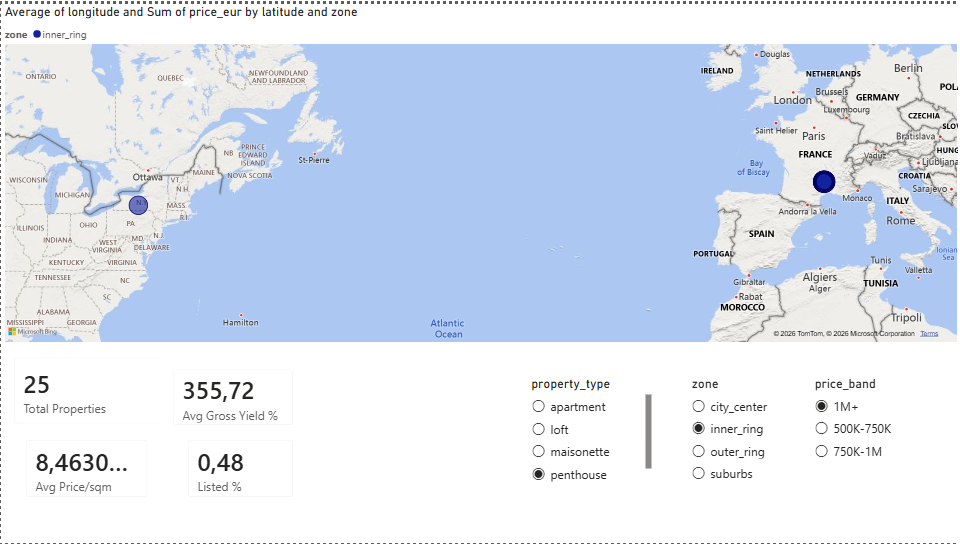

The dashboard page shown, as its layout file describes it:
{"tool":"powerbi","page":{"name":"Page 1","canvas":[1280,720],"ordinal":0},"visuals":[{"type":"map","fields":{"Series":["PropertyFacts.zone"],"Category":["PropertyFacts.latitude"],"X":["Avg(PropertyFacts.longitude)"],"Size":["Sum(PropertyFacts.price_eur)"]},"box":[0,0,1280,456],"z":0},{"type":"cardVisual","fields":{"Data":["_Measures.Total Properties"]},"box":[0,454,232,122],"z":1000},{"type":"cardVisual","fields":{"Data":["_Measures.Avg Price/sqm"]},"box":[16,564,196,110],"z":2000},{"type":"cardVisual","fields":{"Data":["_Measures.Avg Gross Yield %"]},"box":[212,470,194,108],"z":3000},{"type":"cardVisual","fields":{"Data":["_Measures.Listed %"]},"box":[232,564,174,110],"z":4000},{"type":"listSlicer","fields":{"Values":["PropertyFacts.zone"]},"box":[640,494,188,164],"z":5000},{"type":"listSlicer","fields":{"Values":["PropertyFacts.property_type"]},"box":[854,494,224,152],"z":6000},{"type":"listSlicer","fields":{"Values":["PropertyFacts.price_band"]},"box":[438,494,180,164],"z":7000}]}

Visuals, with their boxes in screenshot pixels (x1, y1, x2, y2), scaled from the page's 1280x720 canvas onto the 960x544 screenshot:
map - PropertyFacts.zone x PropertyFacts.latitude: bbox(0, 0, 959, 345)
cardVisual - _Measures.Total Properties: bbox(0, 343, 174, 435)
cardVisual - _Measures.Avg Price/sqm: bbox(12, 426, 159, 509)
cardVisual - _Measures.Avg Gross Yield %: bbox(159, 355, 304, 437)
cardVisual - _Measures.Listed %: bbox(174, 426, 304, 509)
listSlicer - PropertyFacts.zone: bbox(480, 373, 621, 497)
listSlicer - PropertyFacts.property_type: bbox(640, 373, 808, 488)
listSlicer - PropertyFacts.price_band: bbox(328, 373, 464, 497)
